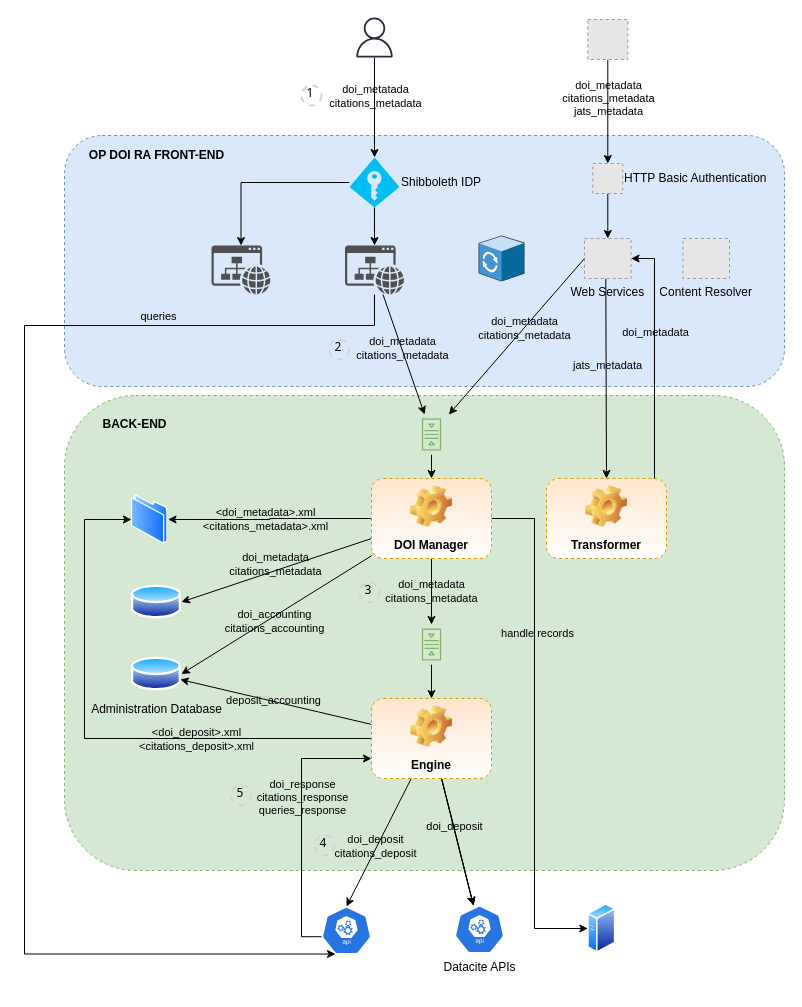
Some shapes in this 802 by 1007 pixel diagram are drawn without their labels. Grey dashed boxes stand in for pictures. Each missing label, with the centre of its shape:
"Crossref APIs" goes at (346,930).
"DOI Proxy" goes at (501,258).
"file archive" goes at (149,519).
"Front-End Web Application" goes at (374,269).
"IANUS" goes at (240,269).
"Metadata Database" goes at (156,601).
"Primary Handle Server" goes at (601,928).
